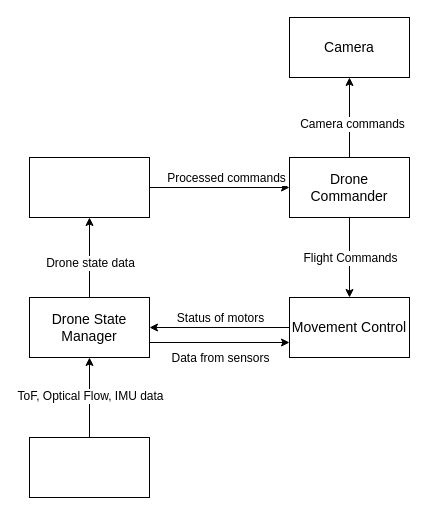
The diagram is 427 pixels wide and 515 high, and some of its shapes have lost their labels. The shapes that lost their labels are listed below. From the top down, each one's box as (x1, y1, x2, y2) in pixels, then its label:
(28, 156, 150, 218): Telemetry and Communication
(28, 436, 150, 498): Sensor Data Collector
